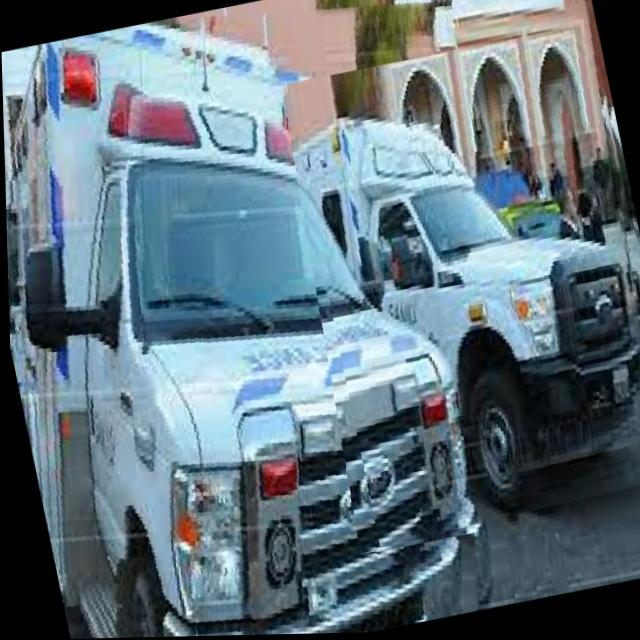ambulance: (0, 0, 552, 640), (282, 24, 640, 551)
